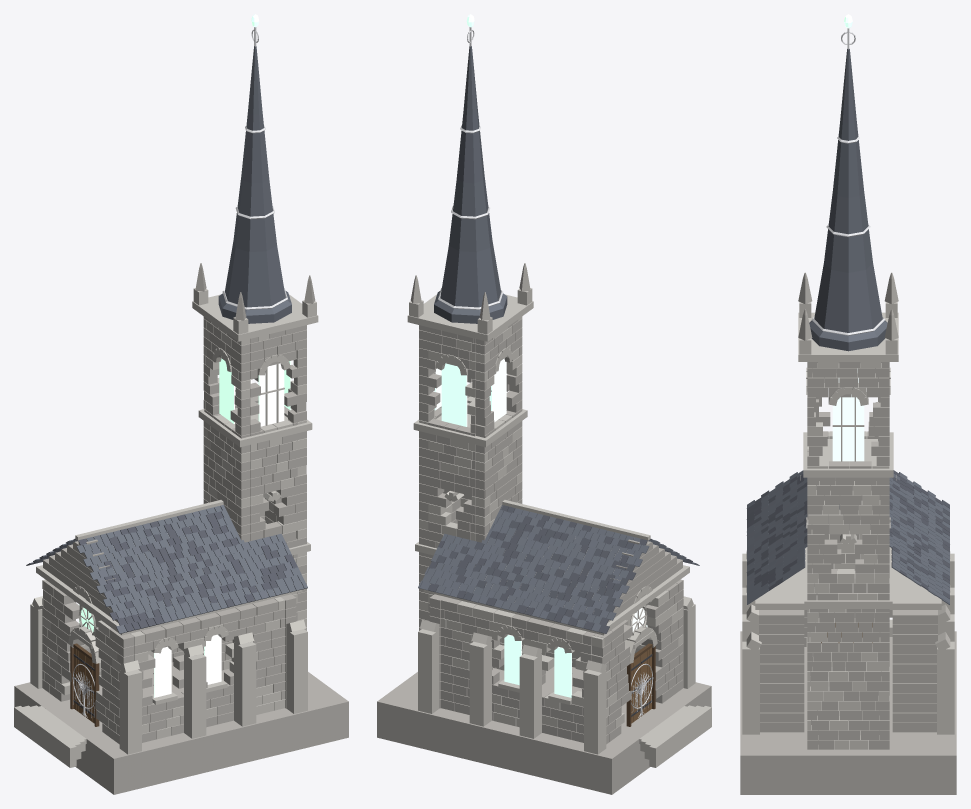
File: SantuarioExterior.glb
The picture shows the model from 3 angles, left to right: view 1: azimuth 30°, elevation 25°; view 2: azimuth 150°, elevation 25°; view 3: azimuth 270°, elevation 25°; orthographic projection. The views are drawn at different scales.
Parts seen in each view (by area): view 1: SantuarioMuros, SantuarioTorre, SantuarioTecho, SantuarioPodio, SantuarioAguja, SantuarioCampanario, SantuarioVidrieras, SantuarioPuertaHojaIzq, SantuarioPuertaHojaDer, SantuarioPuertaMarco; view 2: SantuarioMuros, SantuarioTorre, SantuarioTecho, SantuarioPodio, SantuarioAguja, SantuarioCampanario, SantuarioVidrieras, SantuarioPuertaHojaDer, SantuarioPuertaHojaIzq, SantuarioPuertaMarco; view 3: SantuarioTorre, SantuarioMuros, SantuarioPodio, SantuarioTecho, SantuarioAguja, SantuarioCampanario.
Boxes of the visible parts, box(x1,y1,x2,y2) form: SantuarioMuros: box(30, 529, 307, 754); SantuarioTorre: box(192, 263, 318, 670); SantuarioTecho: box(26, 500, 307, 633); SantuarioPodio: box(14, 662, 348, 794); SantuarioAguja: box(218, 14, 291, 323); SantuarioCampanario: box(219, 358, 291, 426); SantuarioVidrieras: box(78, 604, 221, 697); SantuarioPuertaHojaIzq: box(72, 647, 85, 716); SantuarioPuertaHojaDer: box(83, 656, 94, 723); SantuarioPuertaMarco: box(70, 643, 99, 726); SantuarioMuros: box(418, 539, 695, 754); SantuarioTorre: box(407, 263, 533, 670); SantuarioTecho: box(418, 500, 699, 633); SantuarioPodio: box(377, 666, 711, 794); SantuarioAguja: box(434, 14, 507, 323); SantuarioCampanario: box(434, 358, 506, 426); SantuarioVidrieras: box(504, 605, 647, 697); SantuarioPuertaHojaDer: box(640, 647, 653, 716); SantuarioPuertaHojaIzq: box(631, 656, 642, 723); SantuarioPuertaMarco: box(626, 643, 655, 726); SantuarioTorre: box(798, 272, 898, 749); SantuarioMuros: box(742, 475, 954, 734); SantuarioPodio: box(740, 619, 956, 794); SantuarioTecho: box(746, 470, 949, 604); SantuarioAguja: box(809, 14, 887, 351); SantuarioCampanario: box(832, 368, 864, 461).
Bounding box in the file's own units: 16.41 × 42.57 × 11.
